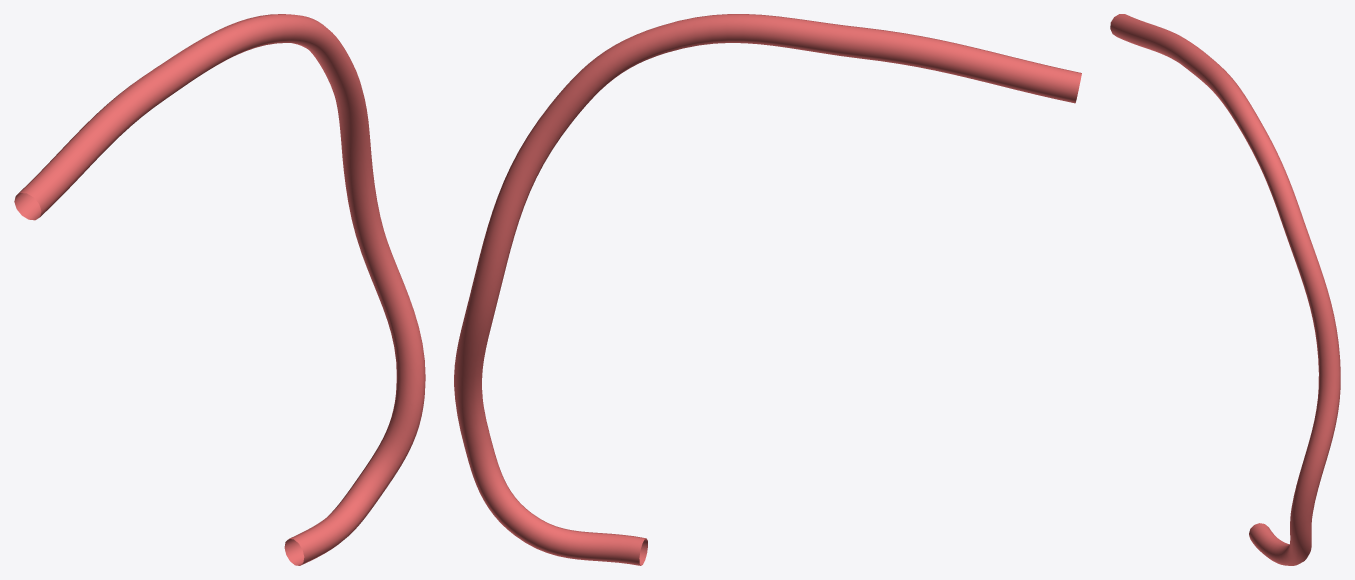
File: Descending_branch_left_colic_artery.glb
3 renders of one model, left to right at view 1: azimuth 30°, elevation 25°; view 2: azimuth 150°, elevation 25°; view 3: azimuth 270°, elevation 25°, orthographic. The views are drawn at different scales.
Visible parts, largest first — view 1: Descending_branch_of_left_colic_artery_BezierCurve.206; view 2: Descending_branch_of_left_colic_artery_BezierCurve.206; view 3: Descending_branch_of_left_colic_artery_BezierCurve.206.
Boxes of the visible parts, <box> form: Descending_branch_of_left_colic_artery_BezierCurve.206: <box>14,14,425,565</box>; Descending_branch_of_left_colic_artery_BezierCurve.206: <box>454,14,1081,565</box>; Descending_branch_of_left_colic_artery_BezierCurve.206: <box>1110,14,1340,565</box>.
Bounding box in the file's own units: 0.0372 × 0.0389 × 0.0188.
